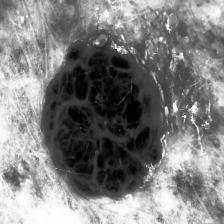Benign Marking or Mole: (40, 35, 195, 203)
